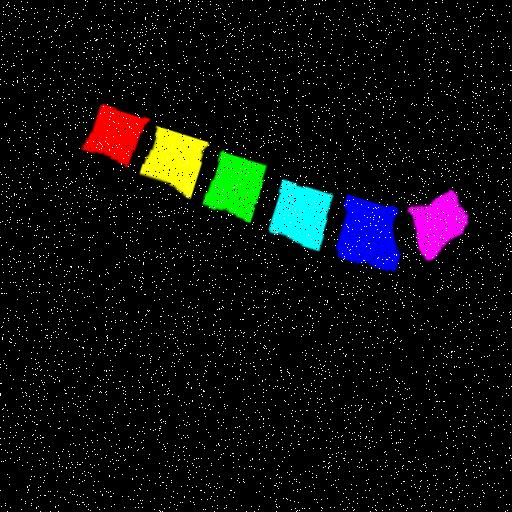L1: (79, 106, 146, 168)
L2: (136, 128, 205, 201)
L3: (199, 155, 262, 225)
L4: (264, 184, 328, 255)
L5: (331, 202, 394, 276)
S1: (403, 199, 463, 268)
